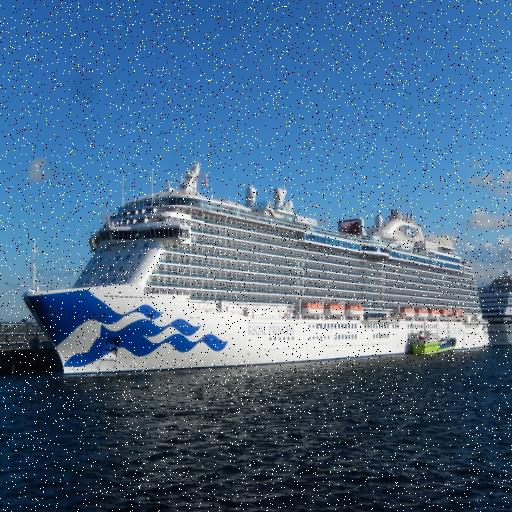cruises: (25, 150, 496, 360), (477, 248, 512, 352)
